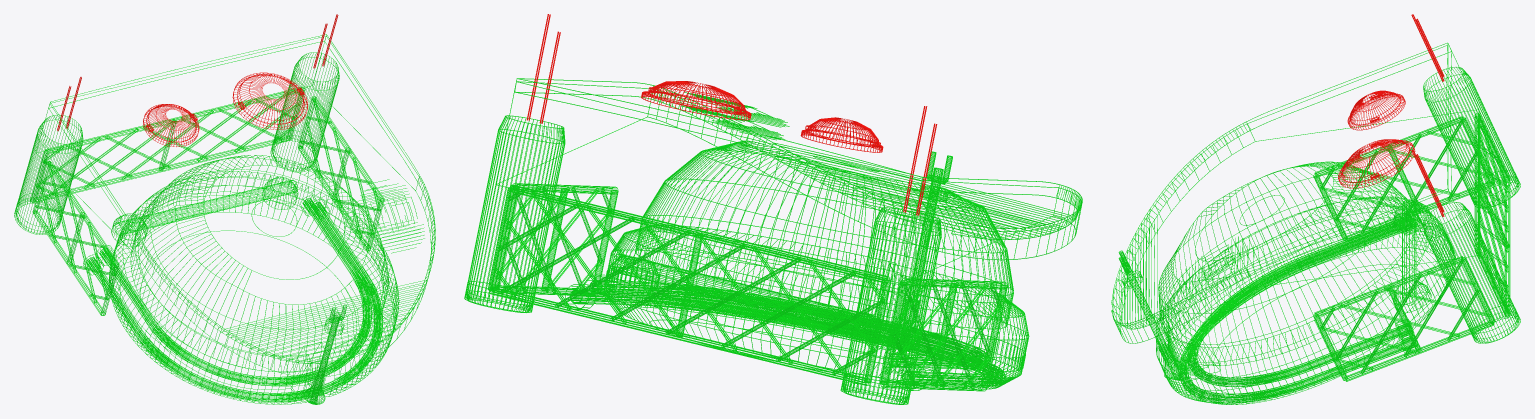
Rendered from seismic-penetrator-highlight-control-computers-and-antennae.glb.
3 renders of one model, left to right at view 1: azimuth 30°, elevation 25°; view 2: azimuth 150°, elevation 25°; view 3: azimuth 270°, elevation 25°, orthographic. The views are drawn at different scales.
Parts seen in each view (by area): view 1: chassis technical wire, ore-slurry-recovery-pipes technical wire, control-computers-and-antennae technical wire, shaft-head-drive technical wire; view 2: chassis technical wire, ore-slurry-recovery-pipes technical wire, control-computers-and-antennae technical wire, shaft-head-drive technical wire; view 3: chassis technical wire, ore-slurry-recovery-pipes technical wire, control-computers-and-antennae technical wire, shaft-head-drive technical wire.
Boxes of the visible parts, x1=… form: chassis technical wire: x1=14, y1=34, x2=435, y2=404; ore-slurry-recovery-pipes technical wire: x1=83, y1=195, x2=383, y2=401; control-computers-and-antennae technical wire: x1=57, y1=14, x2=338, y2=146; shaft-head-drive technical wire: x1=303, y1=304, x2=347, y2=404; chassis technical wire: x1=464, y1=78, x2=1082, y2=404; ore-slurry-recovery-pipes technical wire: x1=565, y1=274, x2=1005, y2=390; control-computers-and-antennae technical wire: x1=526, y1=14, x2=937, y2=215; shaft-head-drive technical wire: x1=891, y1=151, x2=952, y2=352; chassis technical wire: x1=1111, y1=42, x2=1520, y2=404; ore-slurry-recovery-pipes technical wire: x1=1178, y1=211, x2=1418, y2=403; control-computers-and-antennae technical wire: x1=1338, y1=14, x2=1444, y2=216; shaft-head-drive technical wire: x1=1118, y1=250, x2=1186, y2=380.
Size of the model in its own units: 2.37 by 2.12 by 2.61.
